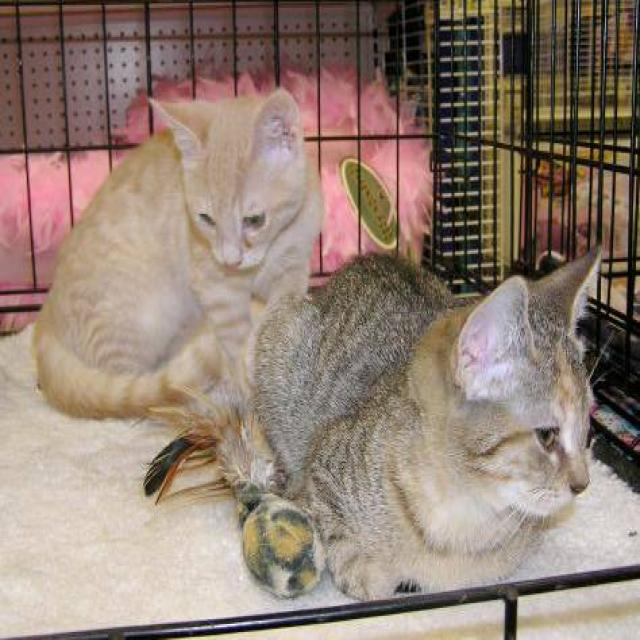cat: (216, 198, 622, 626), (23, 72, 336, 456)
